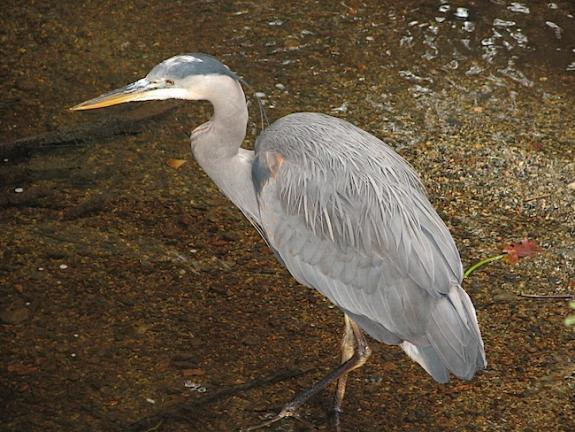heron: (64, 45, 495, 423)
